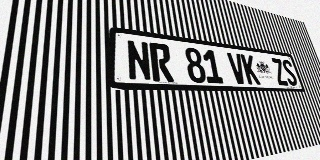1: (201, 49, 223, 83)
8: (184, 47, 207, 83)
K: (240, 54, 261, 85)
N: (126, 39, 152, 81)
R: (149, 42, 174, 82)
S: (281, 59, 299, 86)
V: (226, 52, 248, 84)
Z: (270, 58, 289, 86)
